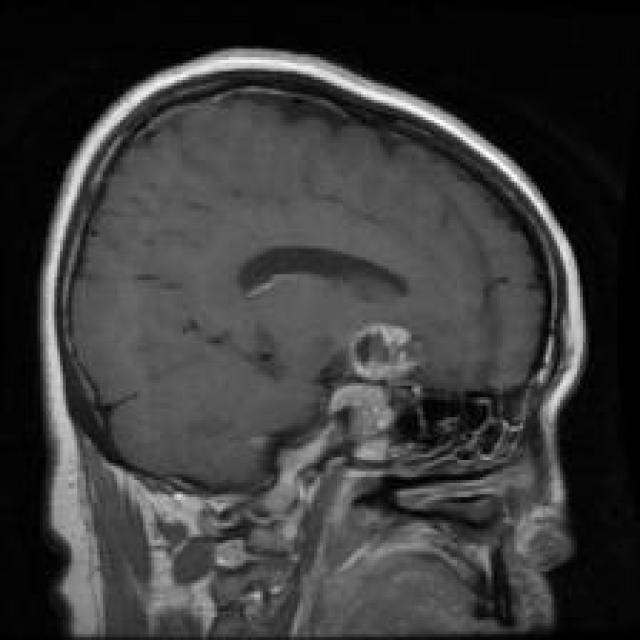pituitary_tumor: (304, 308, 436, 478)
